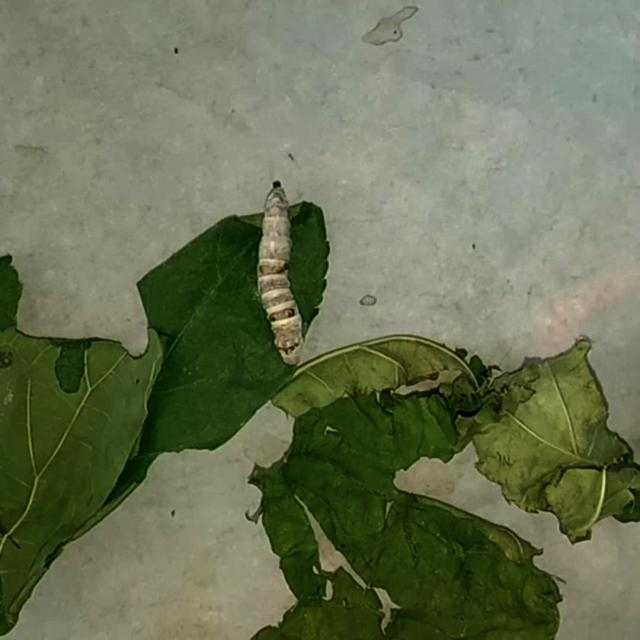Grasserie: (243, 167, 332, 375)
